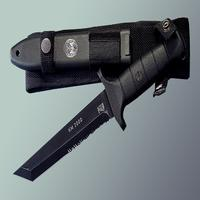knife: (13, 41, 167, 186)
